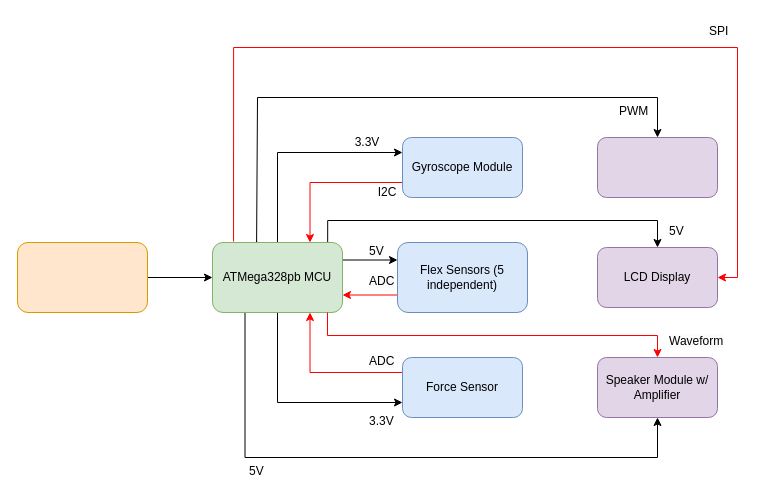
Image size: 763x495. Some labels were removed from this diagram. Each missing label, with the centre of its shape:
"Buzzer (for drum output)" belongs at point 657,167.
"External DC Power Supply" belongs at point 82,277.
